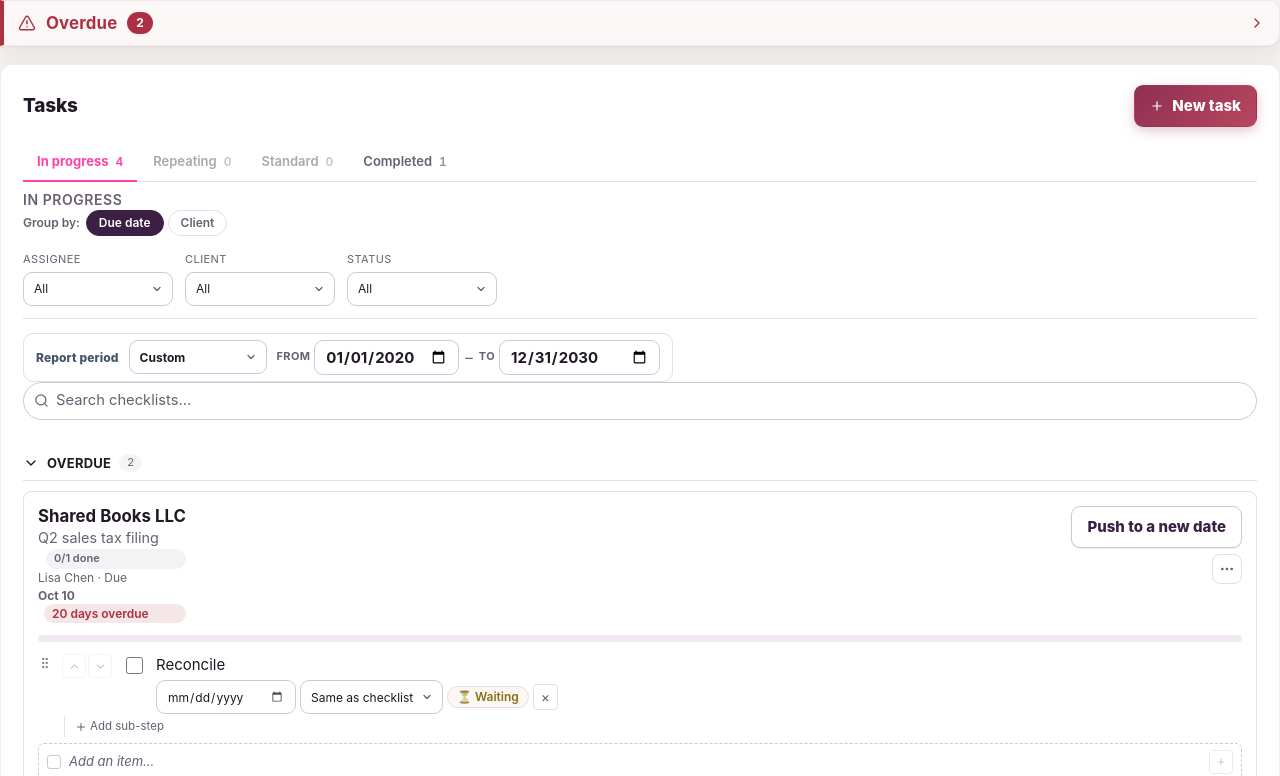
the pinned overdue panel › lists a staff member’s overdue tasks with client, title, lateness and assignee
Expected: the element "Overdue 2" is shown, [0,0,1279,46]
Expected: the 1st text "2" is shown, [127,12,153,34]
What coordinates should you click on to do the following:
click the button with class "overdue-pin-heading"
I would click on:
 (82, 23)
Its box is [18,11,1265,35].
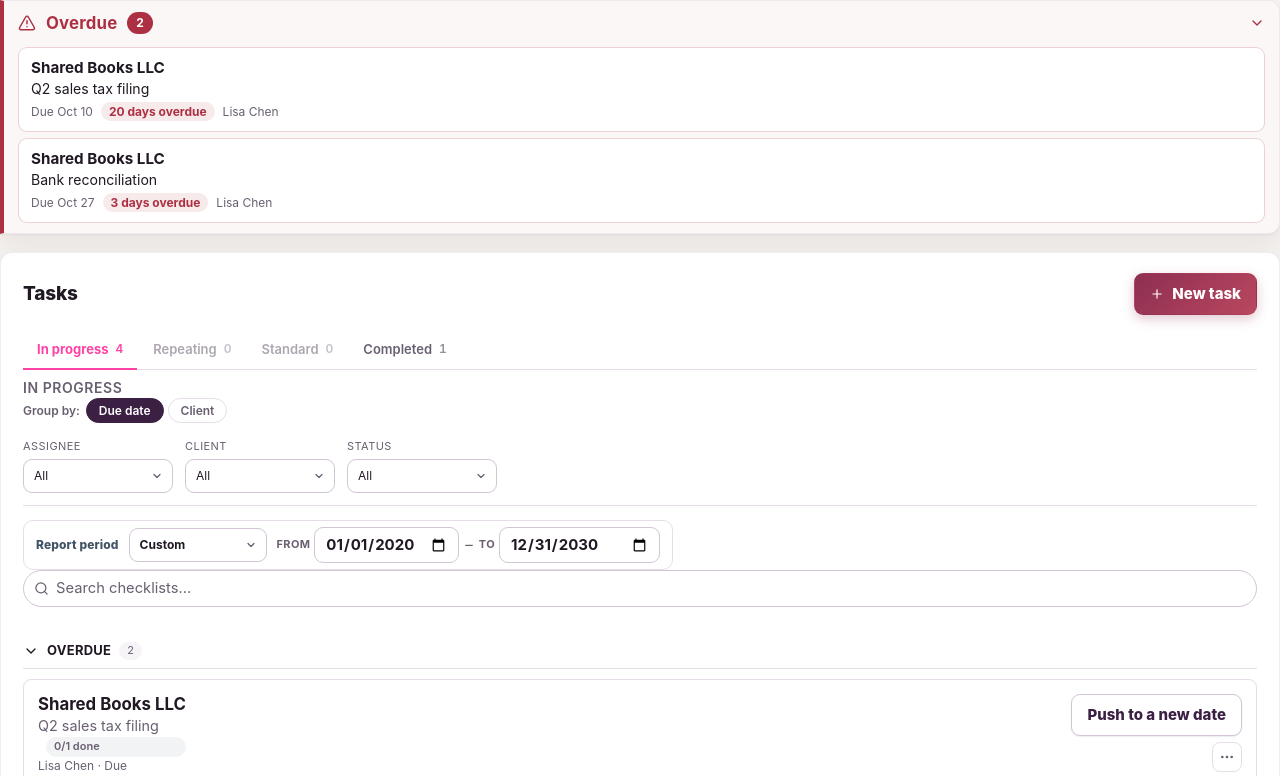
Result: the 1st text "Shared Books LLC" is shown at [31,58,165,77]
Result: the 1st text "20 days overdue" is shown at [101,102,215,121]
Result: the 1st text "Lisa Chen" is shown at [223,103,279,120]
